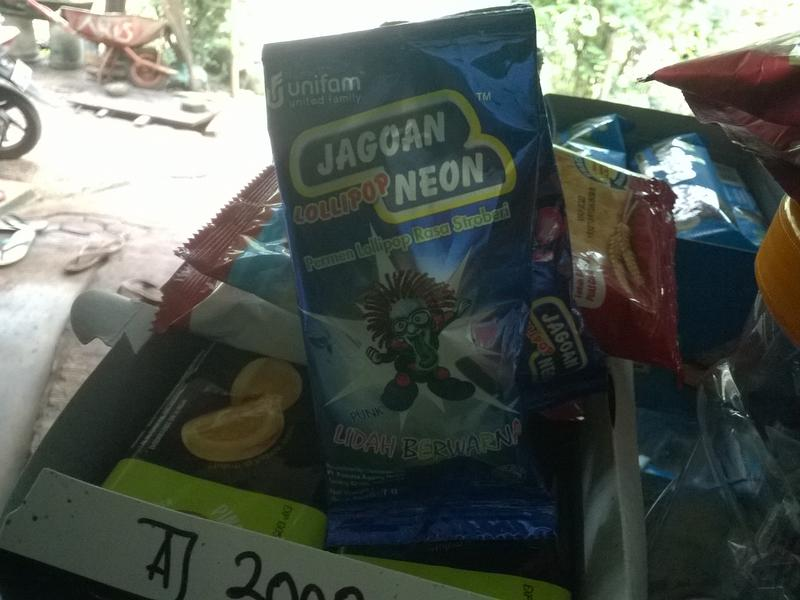jagoan neon: (263, 9, 537, 545)
